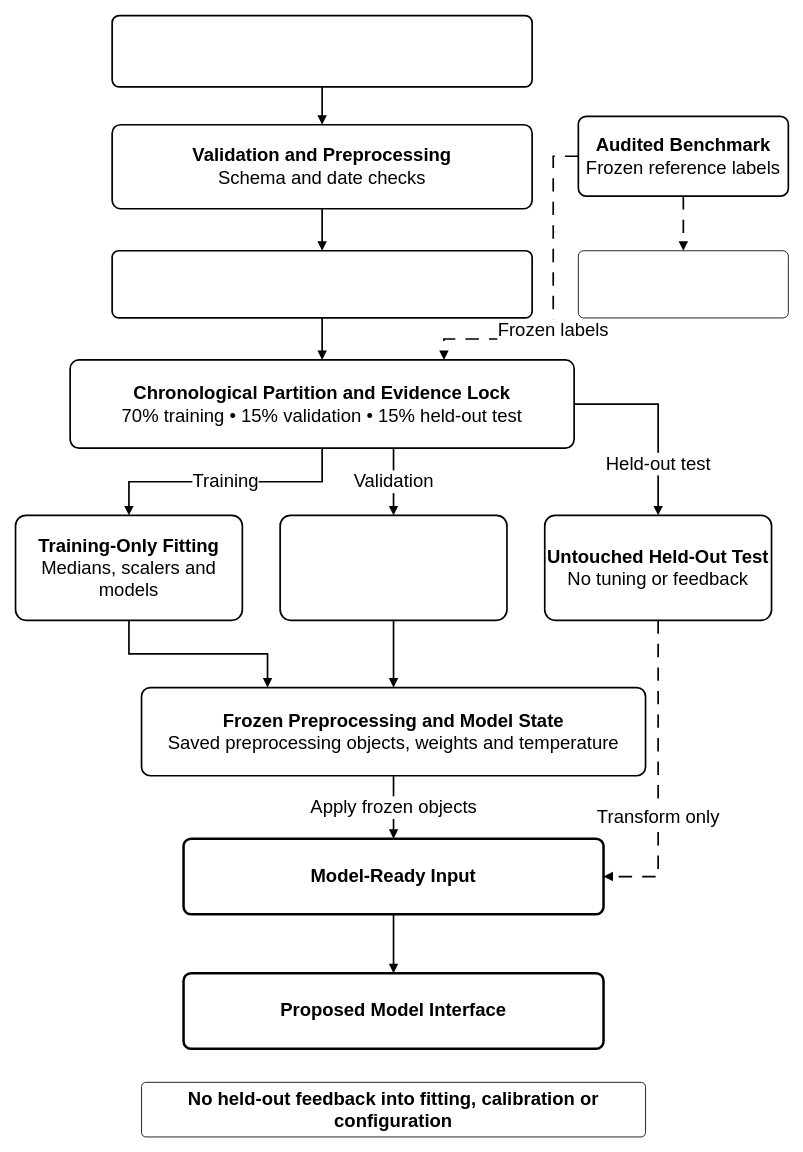
Image size: 803x1152. Some labels were removed from this diagram. Here are the shapes that lost their labels. From the top down, the centre of each, then its label:
At (x=322, y=50): "Raw Campaign Data".
At (x=322, y=283): "Ordered Feature Frame".
At (x=683, y=284): "Operational Campaign Copy 125 active records".
At (x=393, y=567): "Validation-Only Calibration Fit temperature only".
